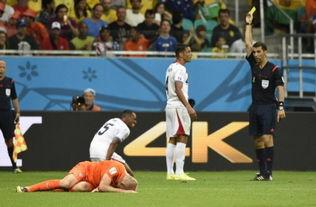bending: (86, 109, 150, 171)
down: (16, 157, 148, 200)
up: (238, 5, 290, 188), (161, 41, 203, 184), (1, 57, 26, 176)
